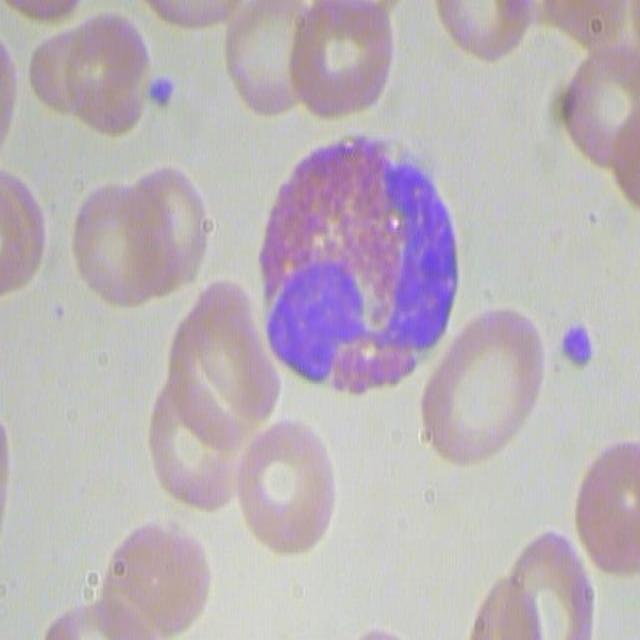RBC: (144, 280, 262, 516), (70, 159, 214, 312), (414, 302, 538, 472), (26, 8, 152, 142), (227, 410, 339, 557), (479, 526, 604, 640), (94, 516, 206, 638), (284, 0, 396, 121), (219, 0, 311, 120), (572, 435, 640, 576), (562, 55, 640, 169), (0, 162, 47, 297), (434, 0, 532, 64), (583, 0, 640, 75), (141, 0, 251, 35)
WBC: (259, 128, 471, 417)
platelets: (557, 321, 595, 373)
